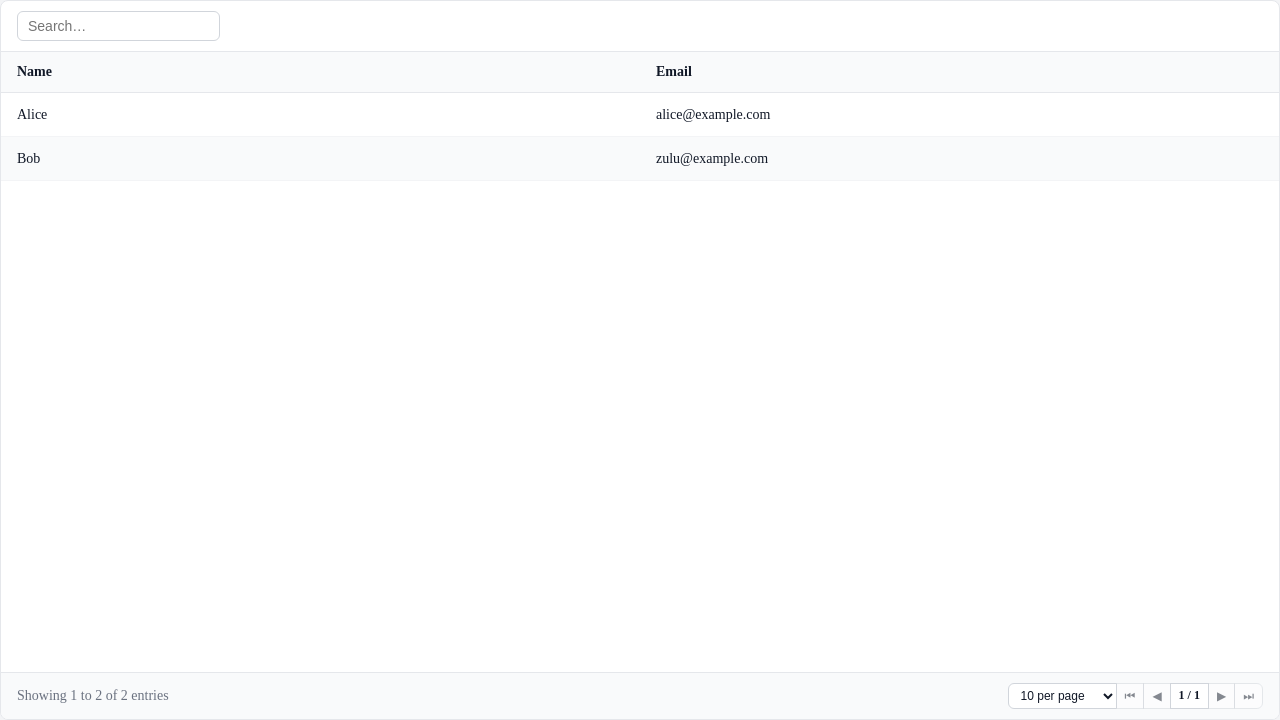
it: DataTable Virtualized Component › quick filter (issue #317) › quickFilterFields restricts matching to only the named columns
This screenshot has width=1280, height=720.
Type "zulu" into the search field at coordinates (118, 26), box [17,11,220,41]
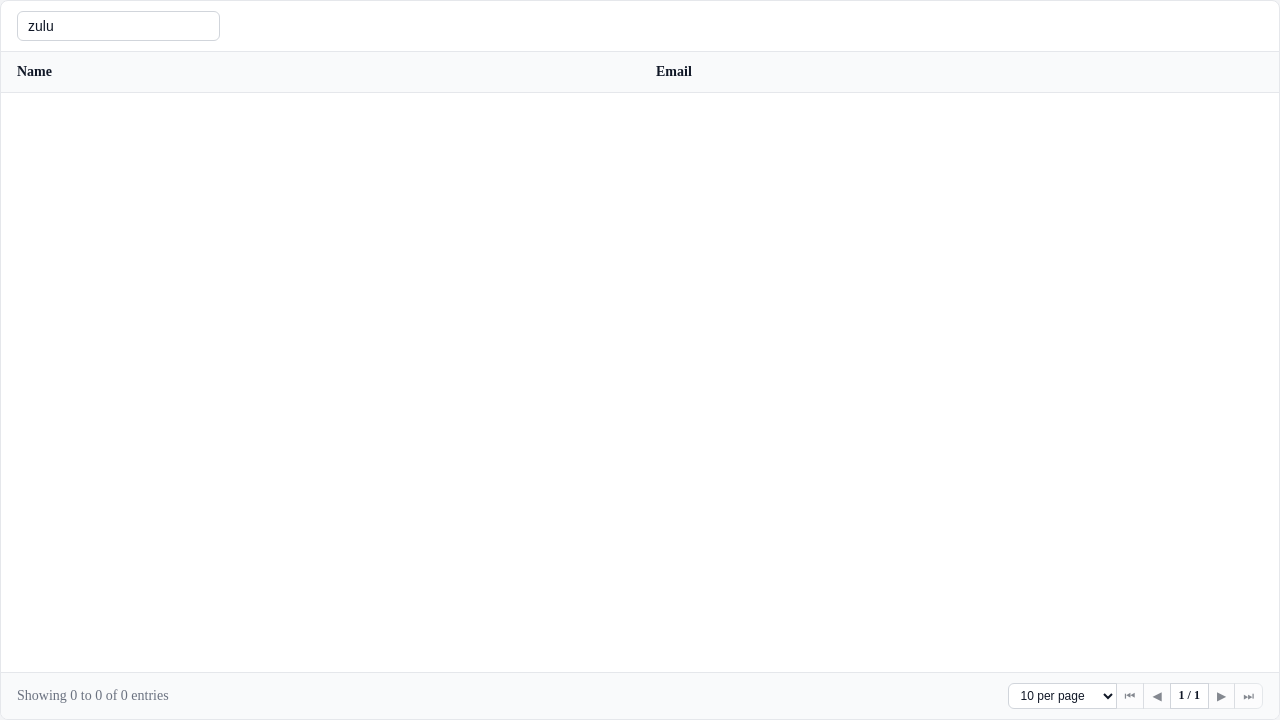
Expected: the text "Bob" is gone
Replace the text in the search field with "bob" at coordinates (118, 26), box [17,11,220,41]
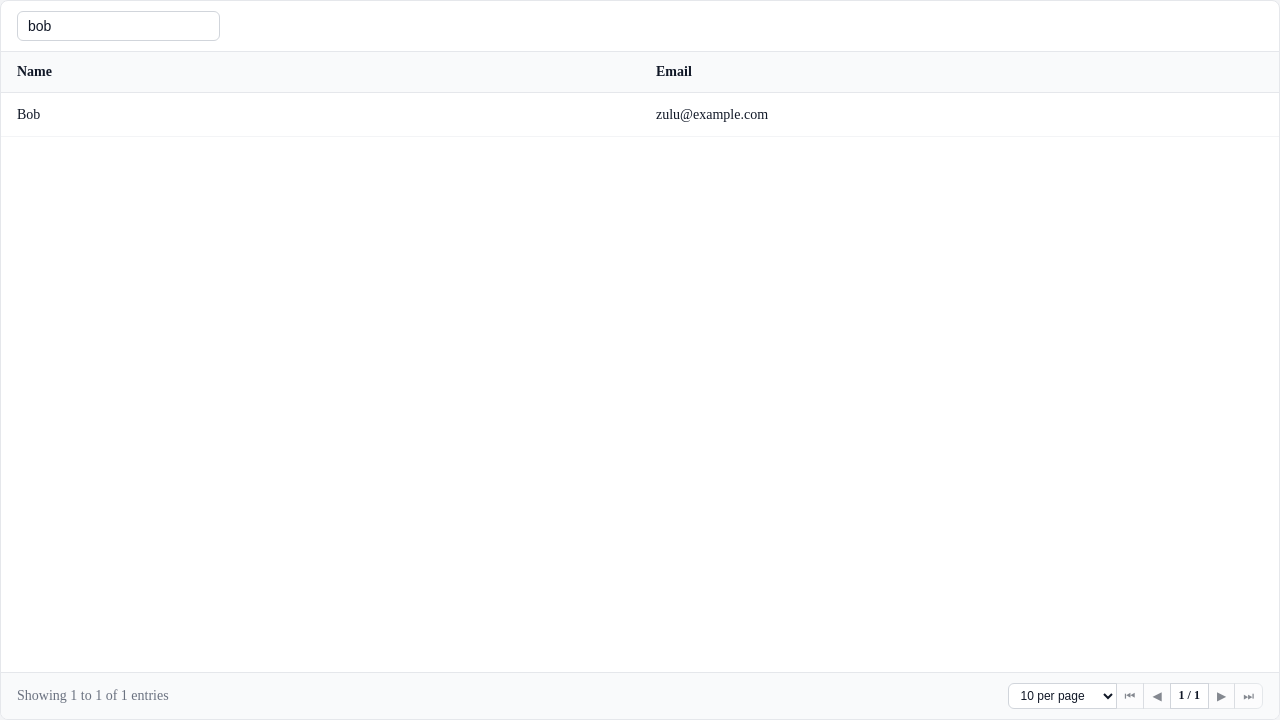
Expected: the text "Bob" is shown, [1,92,640,136]
